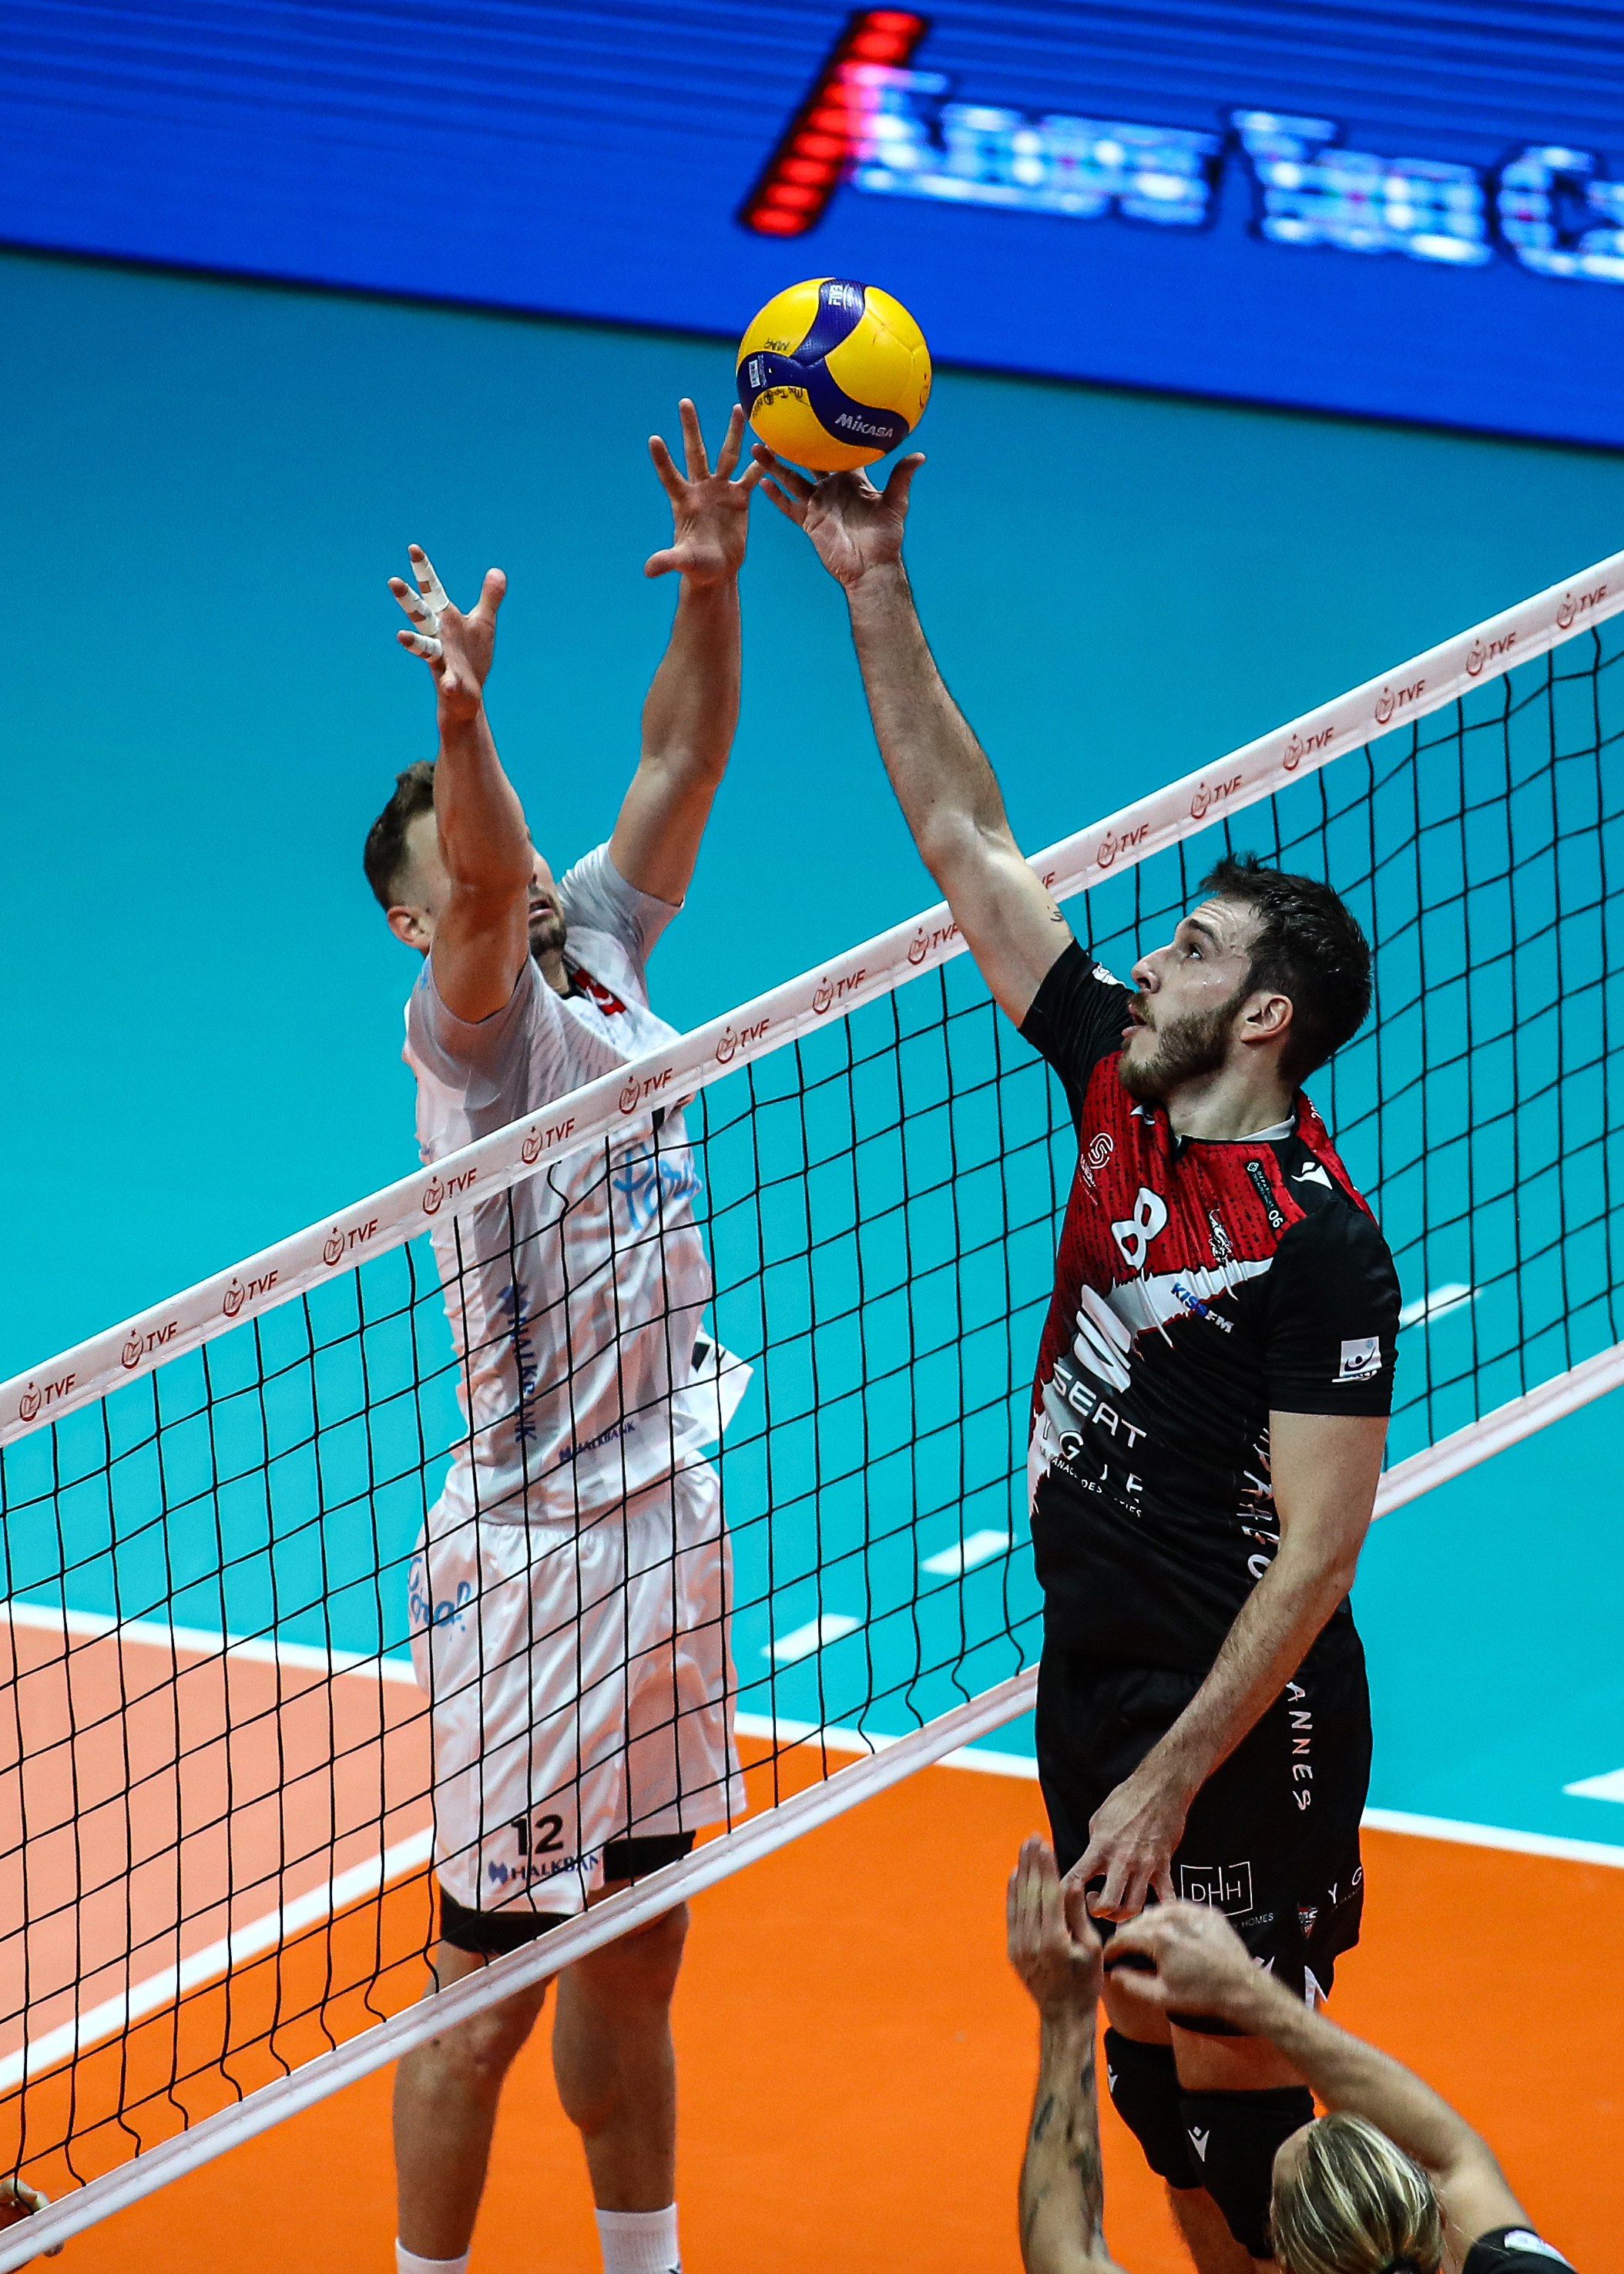ball: (735, 278, 932, 473)
